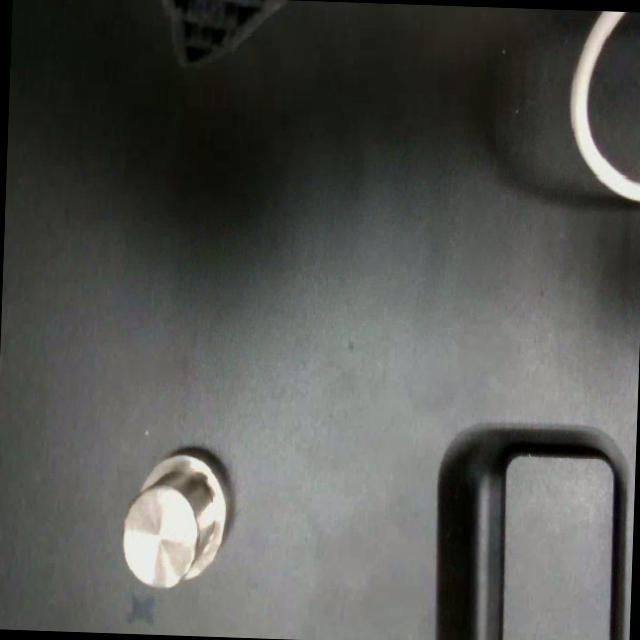sensor: (118, 446, 232, 592)
